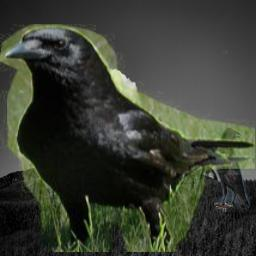Crow: (0, 24, 255, 252), (214, 127, 250, 212)
